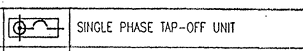Single Phase Tap-Off Unit: (5, 13, 63, 42)
